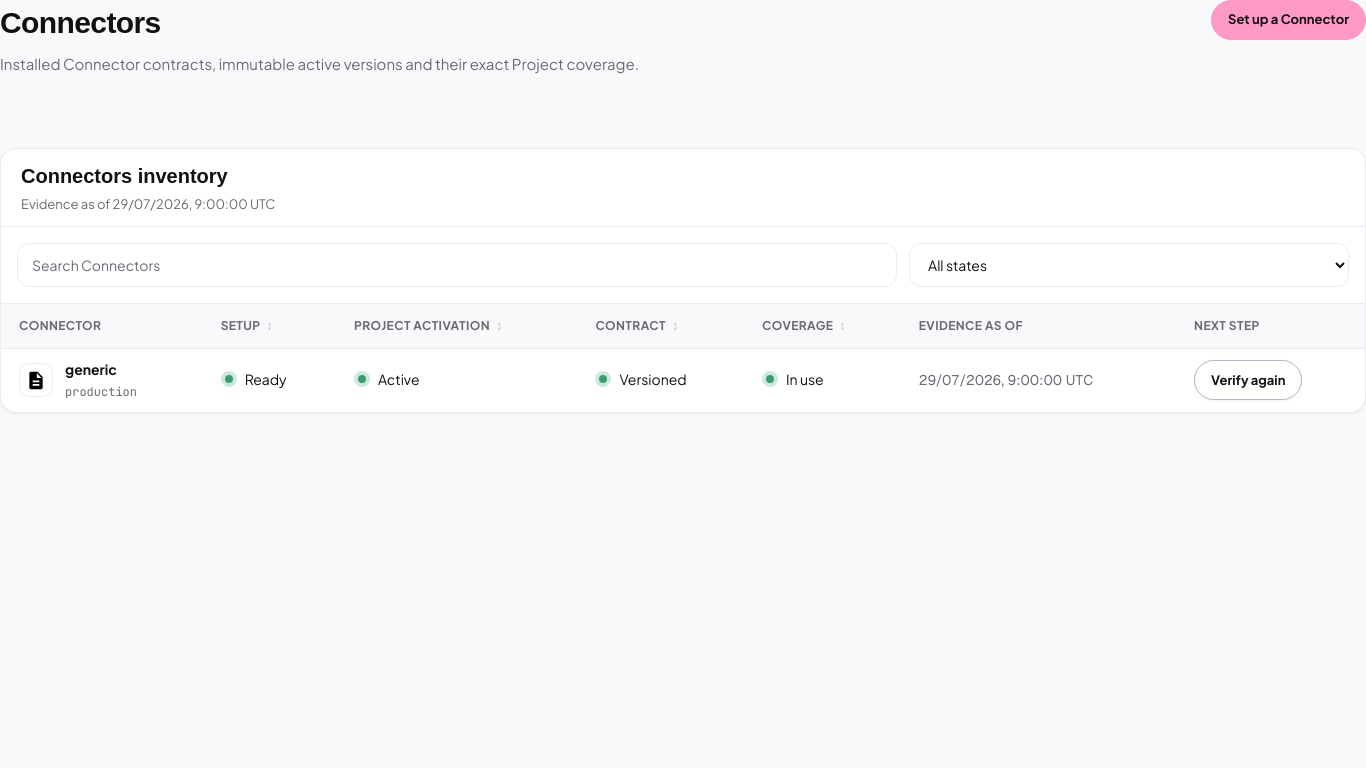
offers Verify again on a READY Connector whose evidence is still fresh
The width and height of the screenshot is (1366, 768).
Click the button "Verify again".
click(1248, 380)  # box [1194, 360, 1302, 400]
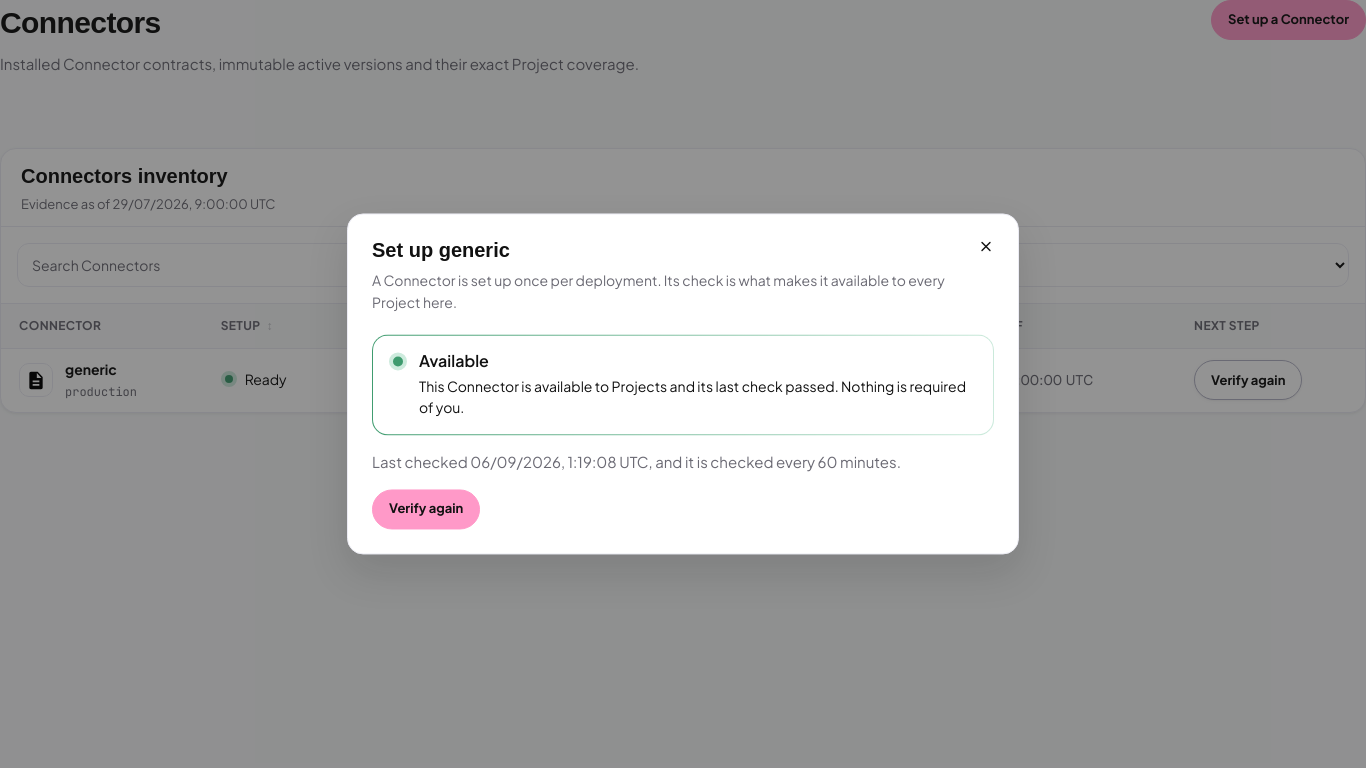
expect the text "Available" is shown: met, box [419, 350, 489, 371]
expect the button "Verify again" is shown: met, box [372, 490, 480, 530]
